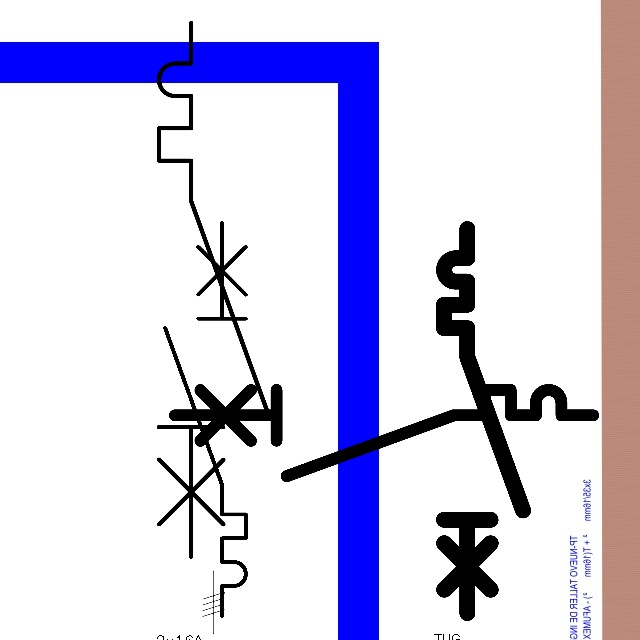interruptor_termomagnetico: (145, 9, 282, 570), (164, 379, 604, 486), (155, 213, 256, 626), (434, 219, 532, 622)
